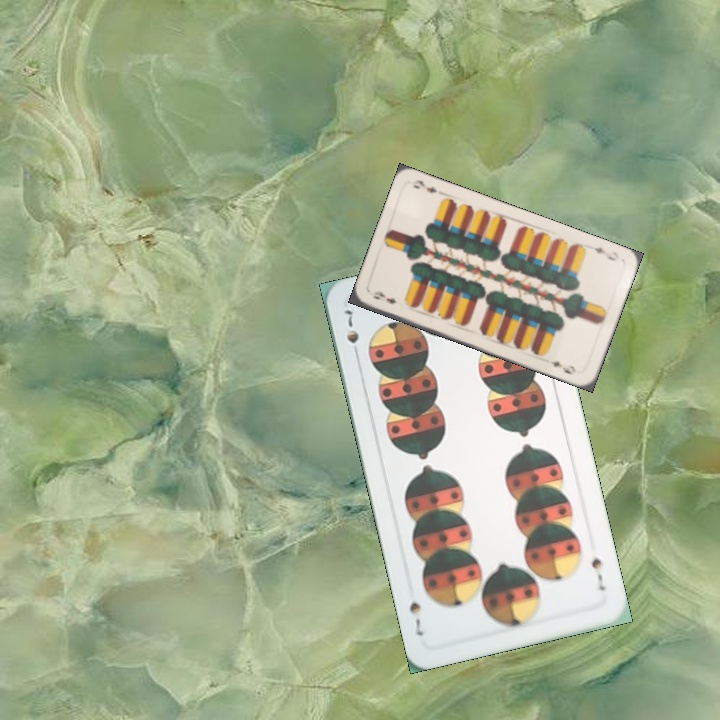E9: (591, 243, 623, 263), (369, 287, 399, 307)
S7: (340, 302, 362, 361), (587, 554, 608, 594)
